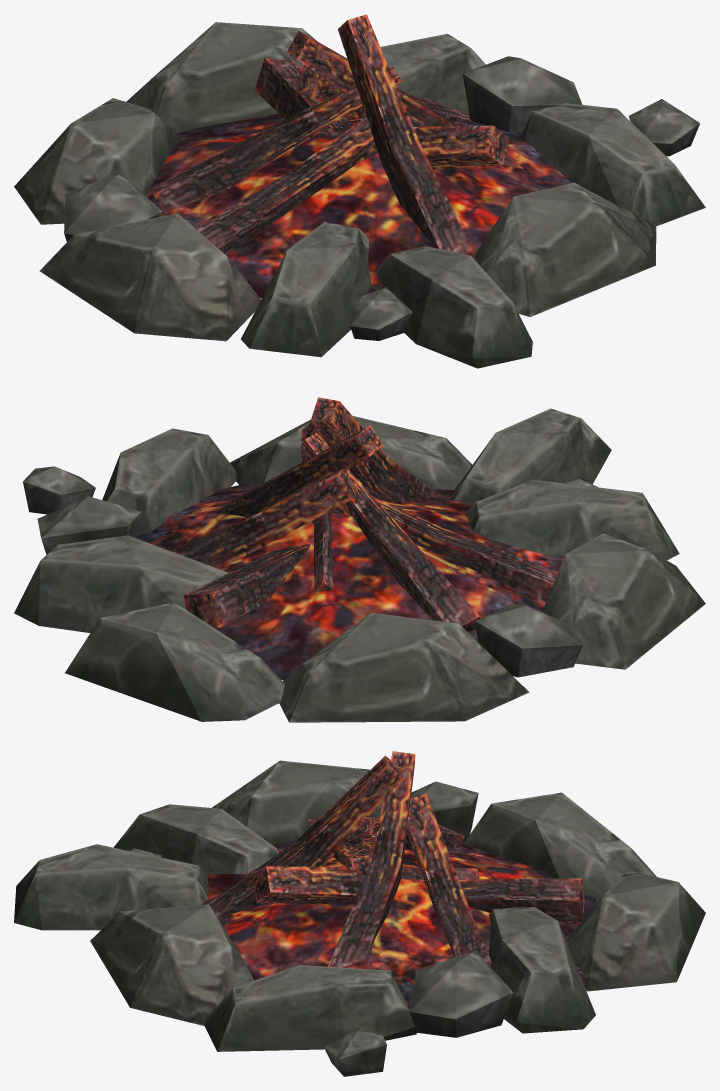
The model's file is kqzd_huodui.FBX.
The picture shows the model from 3 angles, top to bottom: view 1: azimuth 30°, elevation 25°; view 2: azimuth 150°, elevation 25°; view 3: azimuth 270°, elevation 25°; orthographic projection. The views are drawn at different scales.
Visible parts, largest first — view 1: kqzd_huodui; view 2: kqzd_huodui; view 3: kqzd_huodui.
Boxes of the visible parts, left/top/right/bottom form: kqzd_huodui: left=14, top=14, right=705, bottom=368; kqzd_huodui: left=14, top=397, right=705, bottom=722; kqzd_huodui: left=14, top=751, right=705, bottom=1076.
Bounding box in the file's own units: 226 × 233 × 72.
